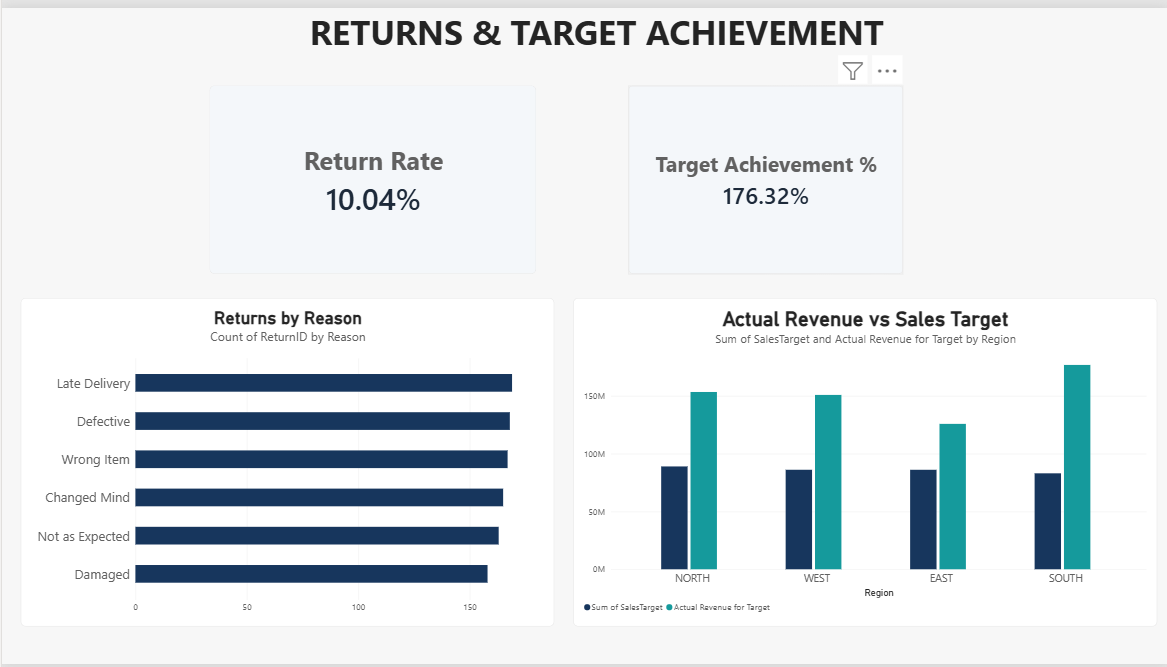

The dashboard page shown, as its layout file describes it:
{"tool":"powerbi","page":{"name":"Returns & Targets","canvas":[1920,1080],"ordinal":3},"visuals":[{"type":"clusteredBarChart","title":"Returns by Reason","fields":{"Category":["returns.Reason"],"Y":["CountNonNull(returns.ReturnID)"]},"box":[29.9,478.4,878.6,540.5],"z":0},{"type":"clusteredColumnChart","title":"Actual Revenue vs Sales Target","fields":{"Category":["targets.Region"],"Y":["Sum(targets.SalesTarget)","customers.Actual Revenue for Target"]},"box":[940.7,478.4,961.4,540.5],"z":1000},{"type":"cardVisual","fields":{"Data":["customers.Return Rate"]},"box":[341.7,127.6,538.2,310.5],"z":2000},{"type":"cardVisual","fields":{"Data":["customers.Target Achievement %"]},"box":[1031.2,127.6,453.1,310.5],"z":3000},{"type":"textbox","box":[105,0,1778.4,105],"z":3001}]}

Visuals, with their boxes in screenshot pixels (x1, y1, x2, y2), scaled from the page's 1920x1080 canvas onto the 1167x667 screenshot:
"Returns by Reason" clusteredBarChart: region(18, 295, 552, 629)
"Actual Revenue vs Sales Target" clusteredColumnChart: region(572, 295, 1156, 629)
cardVisual - customers.Return Rate: region(208, 79, 535, 271)
cardVisual - customers.Target Achievement %: region(627, 79, 902, 271)
textbox: region(64, 0, 1145, 65)
